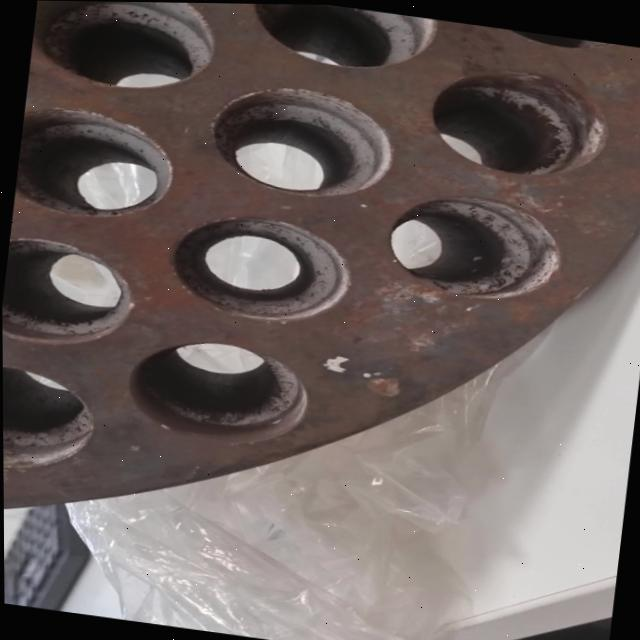Hole: (203, 75, 399, 204), (162, 203, 356, 330), (423, 57, 613, 184), (121, 328, 312, 448), (381, 185, 567, 306), (12, 100, 181, 226), (27, 0, 222, 99), (1, 233, 140, 354), (245, 3, 439, 77), (2, 362, 100, 479)
